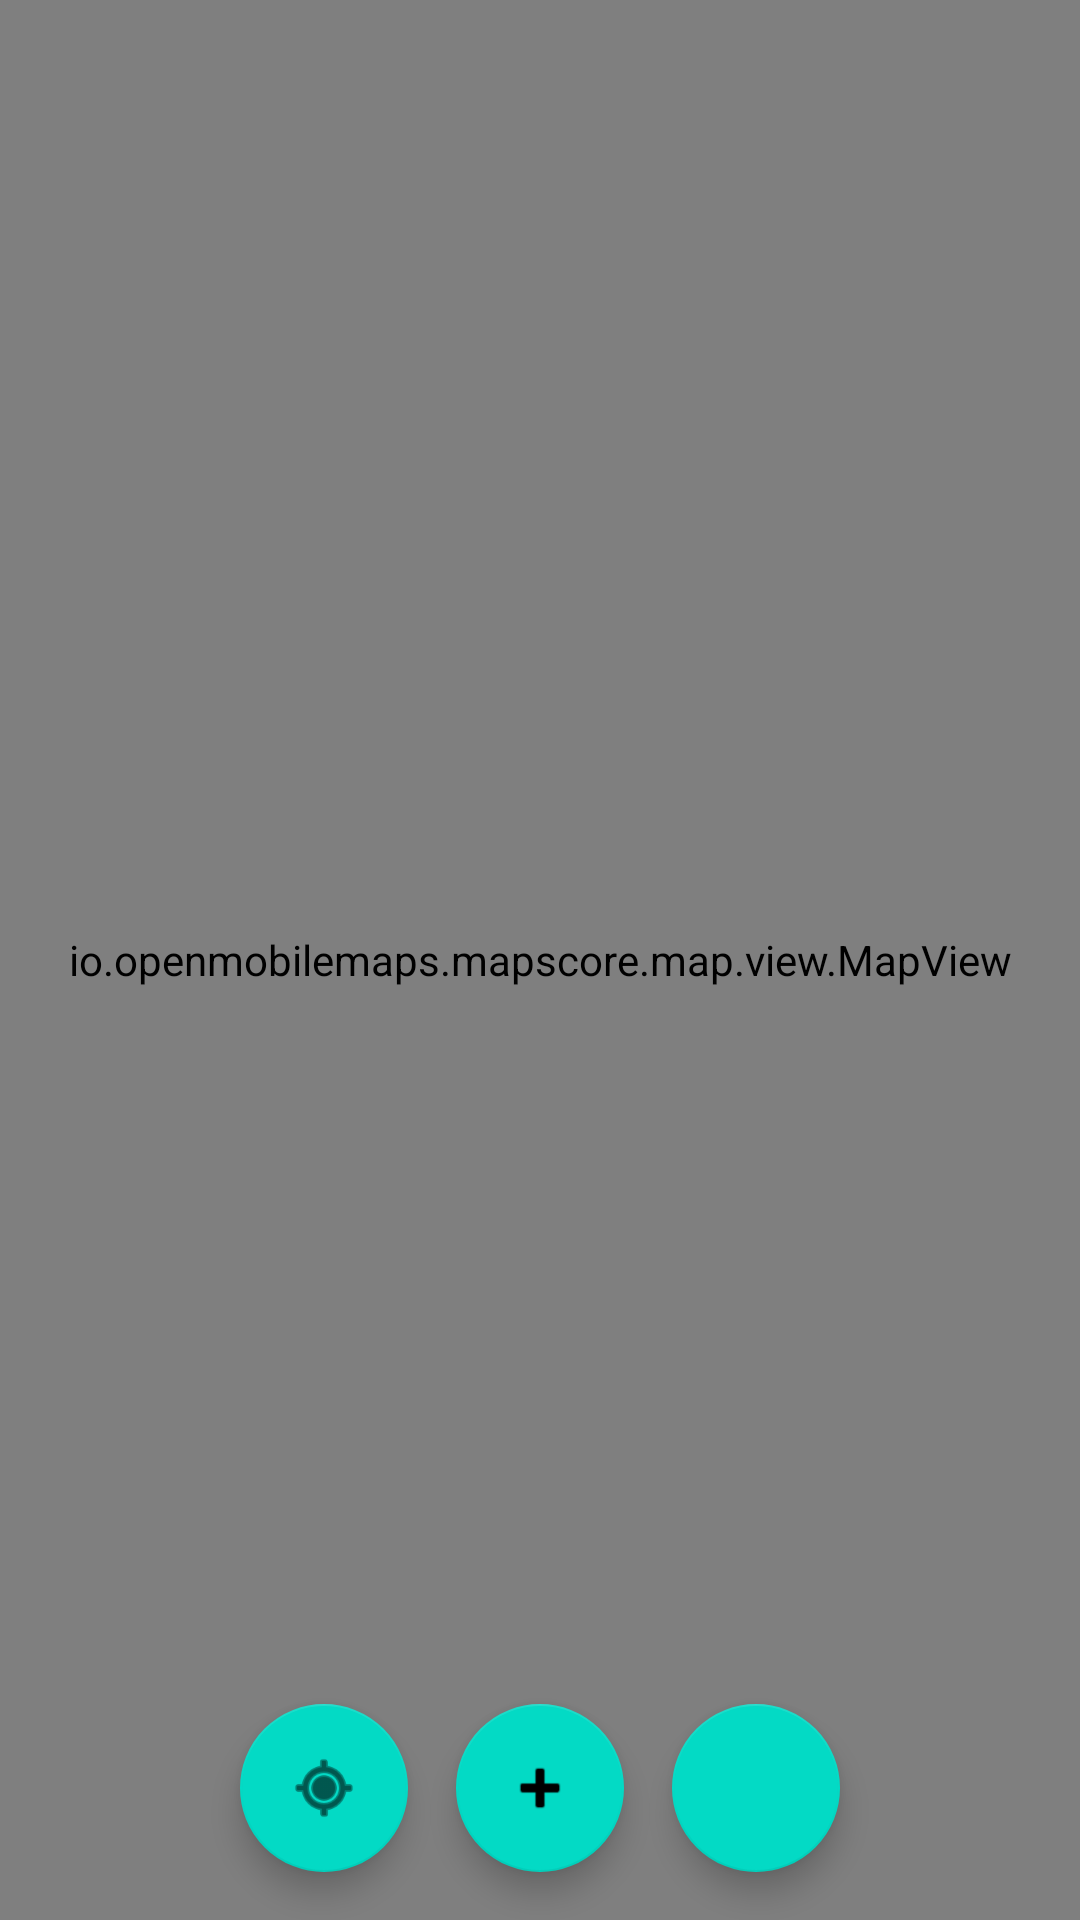

Named icons in this screenshot (1080 x 1920) and their centers, [x,y]:
location symbol: [324,1788]
plus sign: [540,1788]
